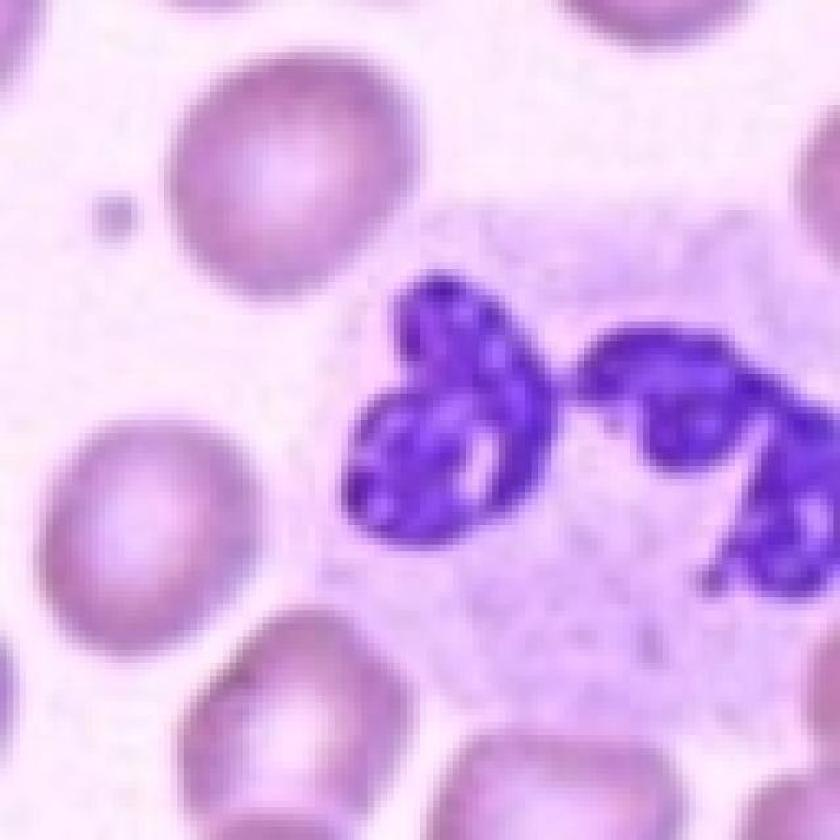neutrophil: (277, 193, 840, 736)
